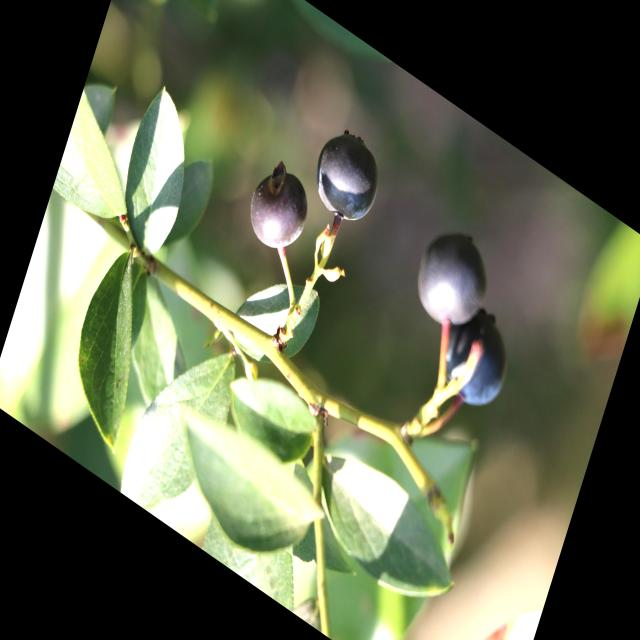blueberry: (404, 207, 502, 350), (432, 290, 522, 422), (304, 116, 390, 240), (242, 147, 319, 267)
